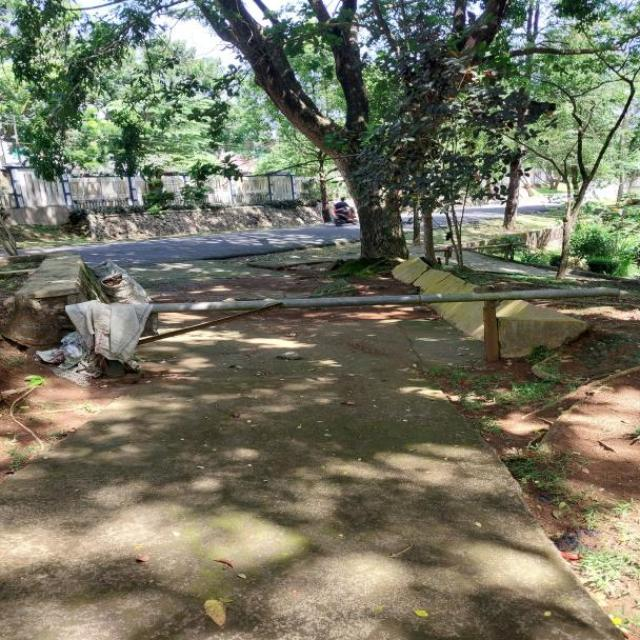barrier ahead at: (74, 276, 622, 314)
